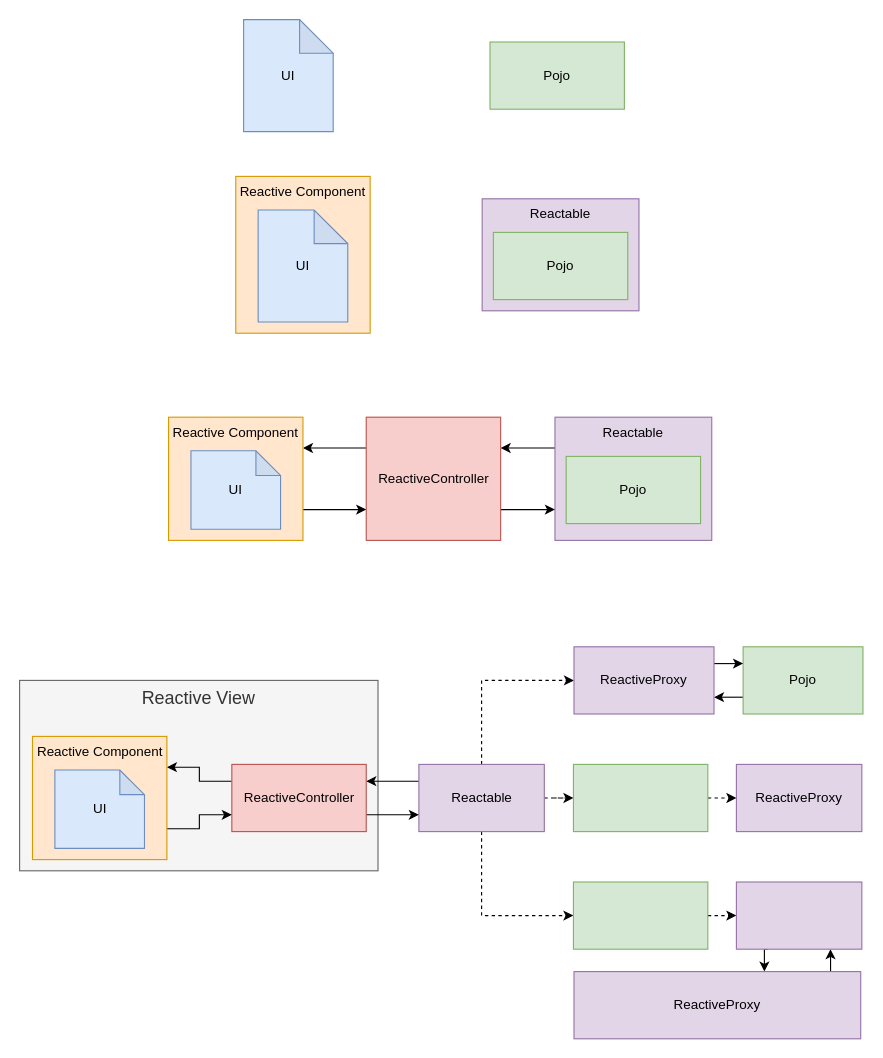
Image size: 883x1058. Some labels were removed from this diagram. Each missing label, with the centre of its shape:
"Pojo extends ReactiveProject" goes at pixel 640 797.
"Pojo implements ProxySubject" goes at pixel 640 915.
"ProxySubject" goes at pixel 798 915.
